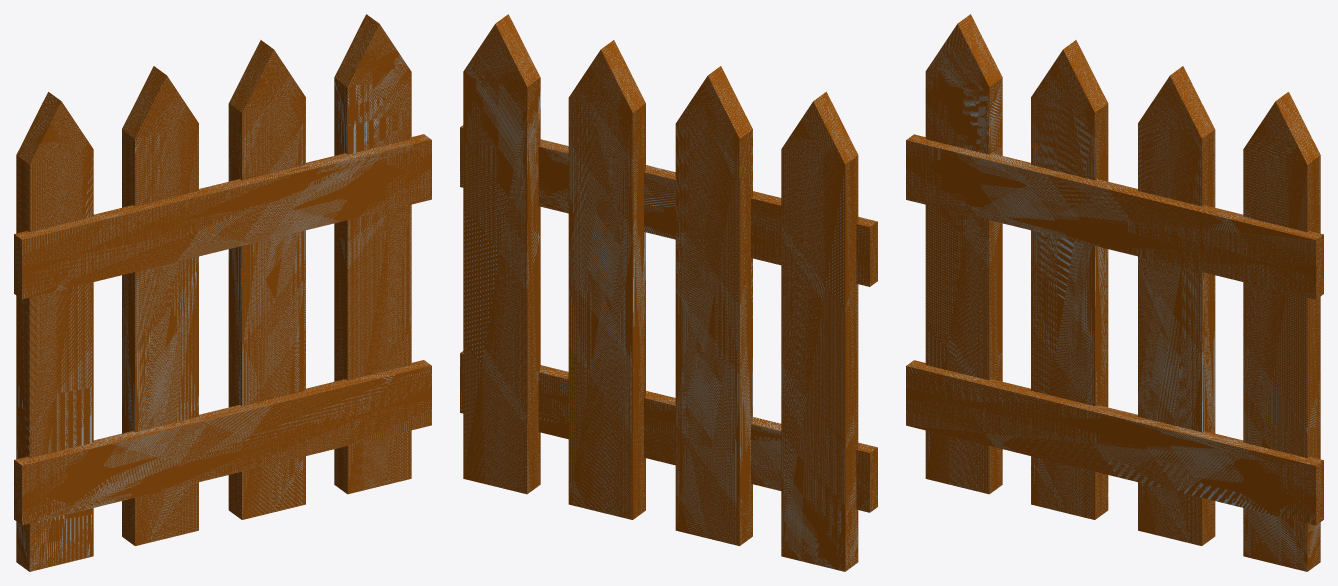
File: Fence_Small_Timber_01.fbx
The picture shows the model from 3 angles, left to right: view 1: azimuth 30°, elevation 25°; view 2: azimuth 150°, elevation 25°; view 3: azimuth 330°, elevation 25°; orthographic projection.
Visible parts, largest first — view 1: Model; view 2: Model; view 3: Model.
Boxes of the visible parts, <box> form: Model: <box>14,14,431,571</box>; Model: <box>460,14,877,571</box>; Model: <box>906,14,1323,571</box>.
Size of the model in its own units: 216 by 233 by 17.49.
